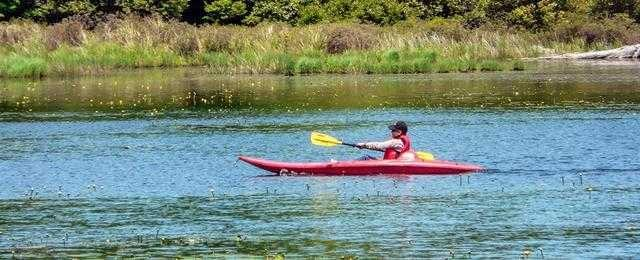kayak: (237, 154, 493, 179)
